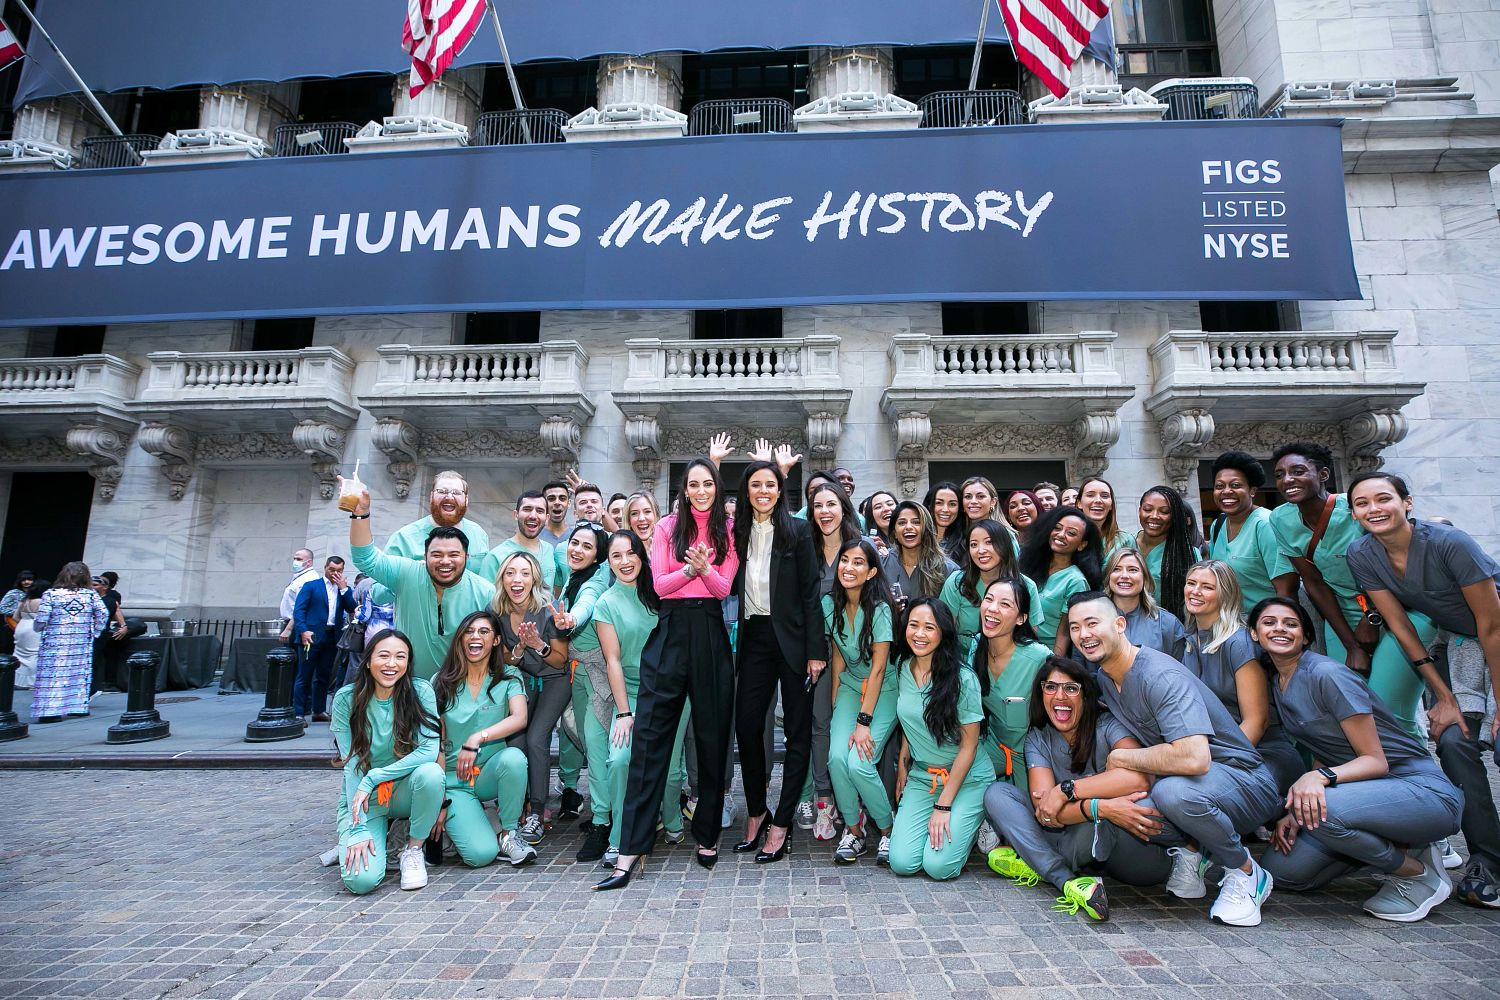face: (1064, 589, 1120, 664), (1345, 474, 1410, 533), (412, 525, 476, 581), (364, 620, 416, 688), (1040, 660, 1089, 730), (1273, 443, 1328, 502), (1183, 556, 1235, 617), (981, 577, 1027, 643), (1136, 482, 1186, 537), (428, 463, 472, 524), (1254, 595, 1302, 652), (499, 548, 542, 611), (903, 601, 947, 660), (1213, 458, 1261, 511), (454, 609, 499, 666), (1077, 472, 1123, 524), (831, 541, 878, 590), (563, 524, 604, 579), (1103, 551, 1150, 599), (606, 527, 643, 587), (968, 525, 1012, 567), (684, 458, 719, 512), (745, 459, 780, 512), (1048, 510, 1090, 554), (623, 489, 655, 540), (516, 490, 550, 538), (961, 476, 998, 519), (893, 501, 928, 546), (811, 488, 844, 533), (1004, 489, 1040, 528), (926, 481, 958, 525), (571, 482, 602, 527), (540, 478, 569, 523), (866, 487, 895, 525), (321, 551, 345, 582), (289, 546, 314, 574)
